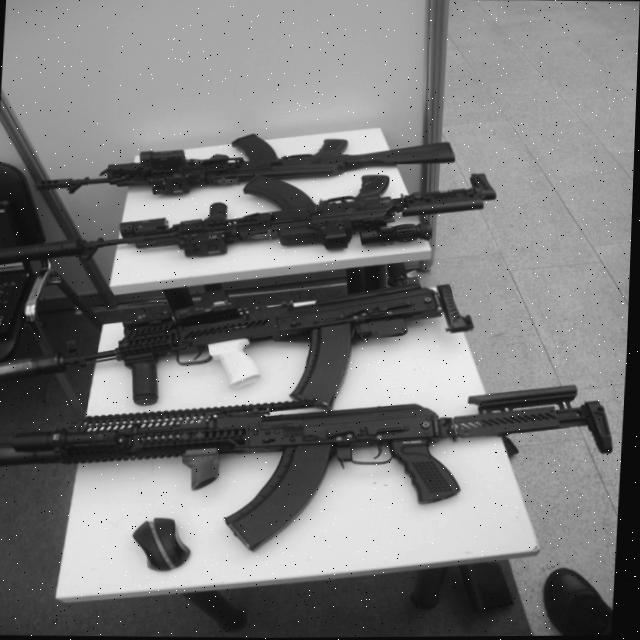firearm: (0, 372, 620, 558), (0, 273, 480, 414), (0, 164, 500, 276), (34, 127, 459, 203)
